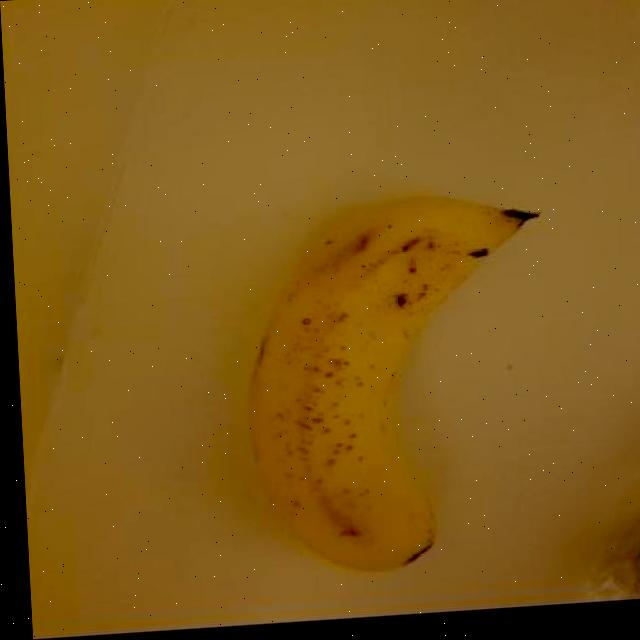banana: (226, 180, 563, 586)
